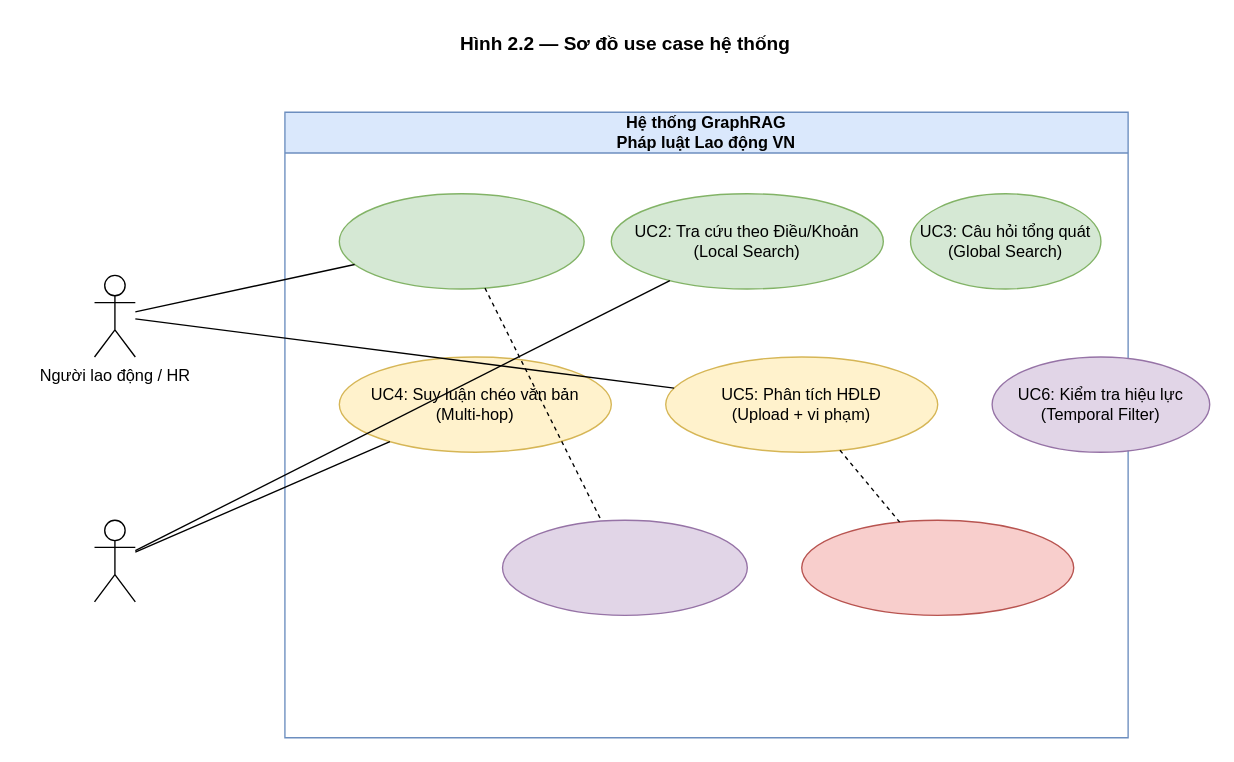
This 1234x762 diagram has some shape labels left out. The centre of each missing label's shape, as x and y in pixels:
Luật sư / Chuyên viên PL: point 114,560
UC1: Hỏi đáp pháp luật (Chat QA): point 461,240
UC7: Trích dẫn nguồn (Citation Resolver): point 624,567
UC8: Xác thực quy tắc (Rule Validator L001–L015): point 937,567
